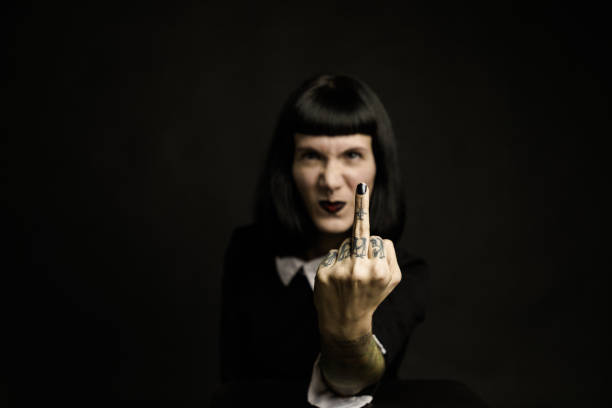insulting_gesture: (312, 181, 403, 341)
